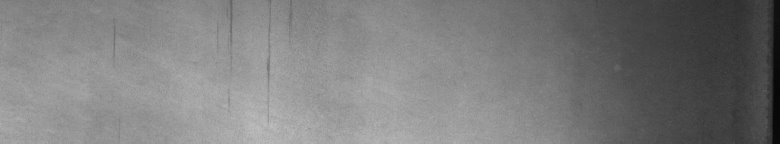ka: (228, 4, 292, 88)
